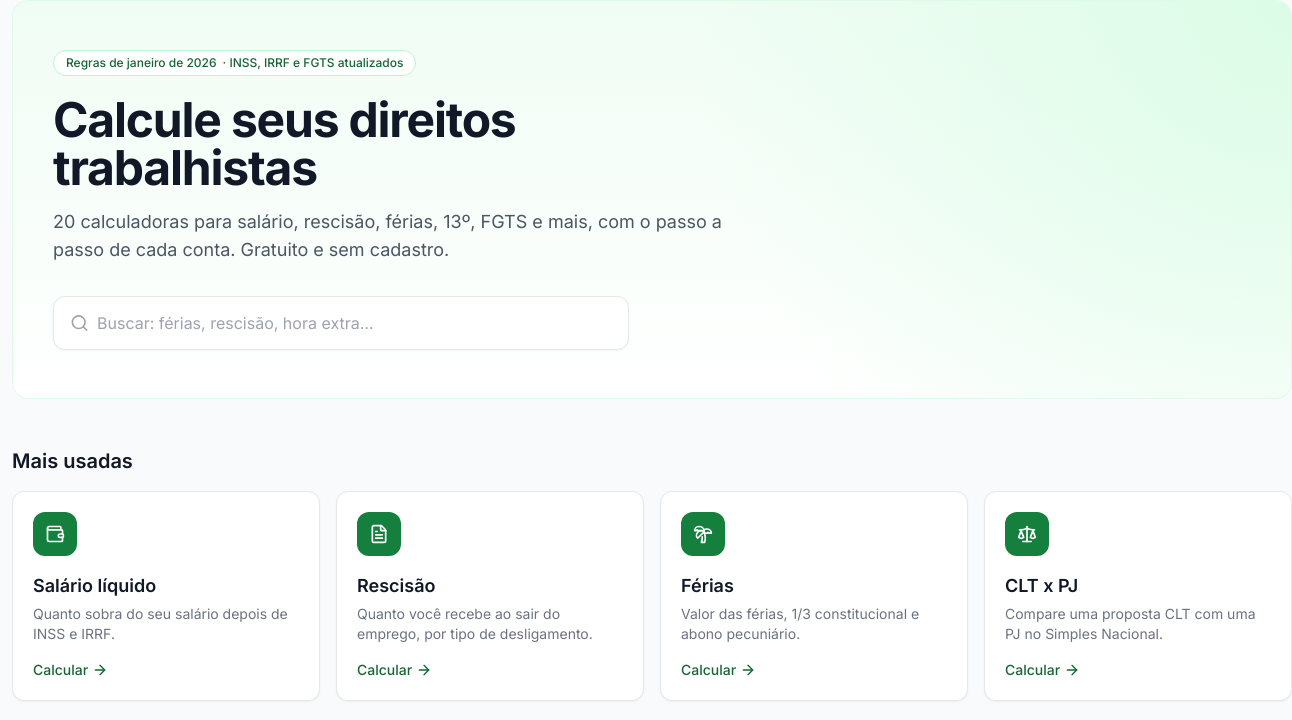
Scenario: CalculatorDirectory › mostra mensagem quando nada é encontrado
Step 1. Type "xyz" into the search field named "Buscar calculadora" → [354, 323], box [97,297,612,349]
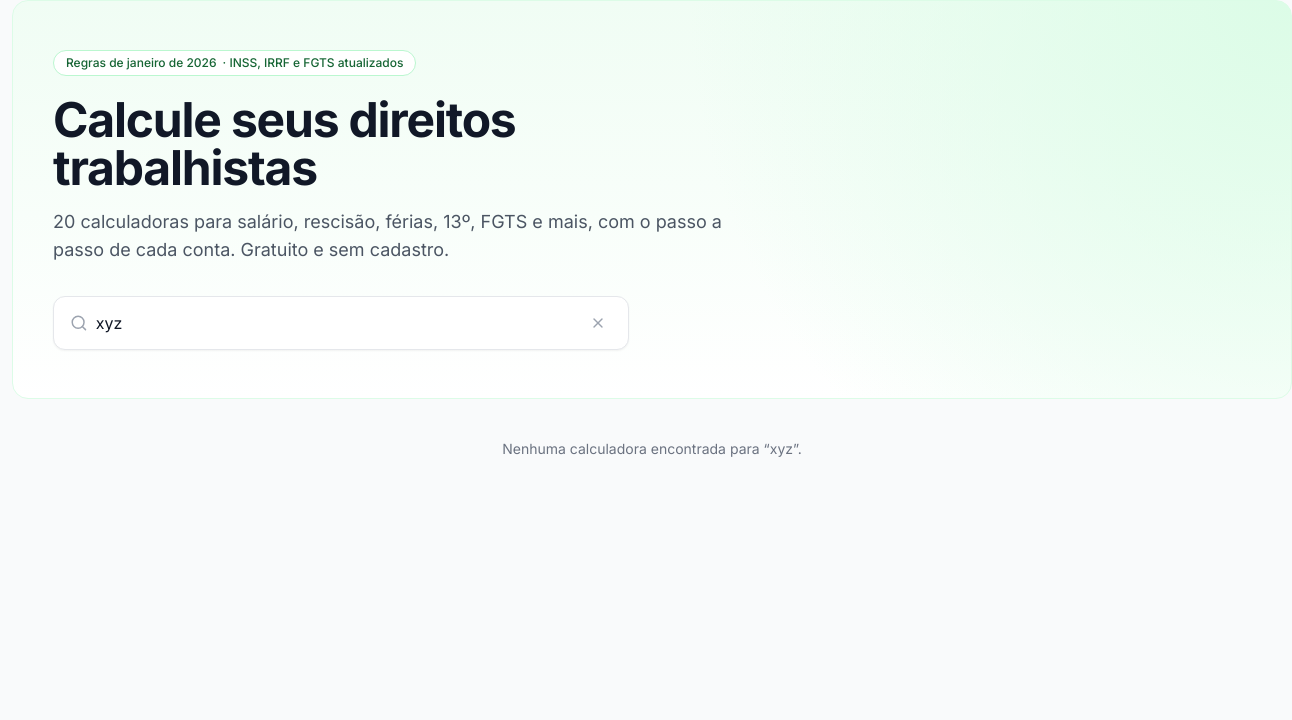
Now the text "Nenhuma calculadora encontrada para “xyz”." is shown, box [502,440,802,457]
